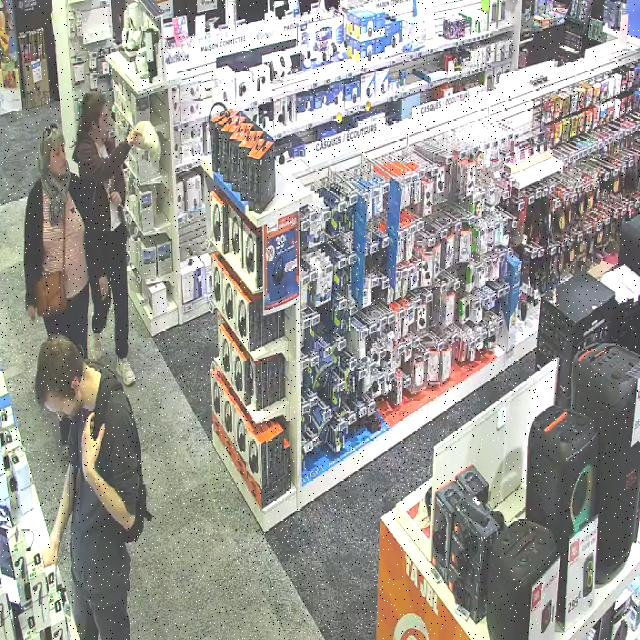bags: (94, 374, 152, 541), (36, 221, 65, 317)
hands: (82, 412, 134, 528), (45, 493, 70, 561), (64, 466, 72, 499), (99, 276, 108, 299), (109, 191, 121, 207), (128, 130, 139, 146), (27, 306, 36, 321)
person: (35, 337, 150, 639), (73, 93, 141, 383), (24, 126, 107, 351)
